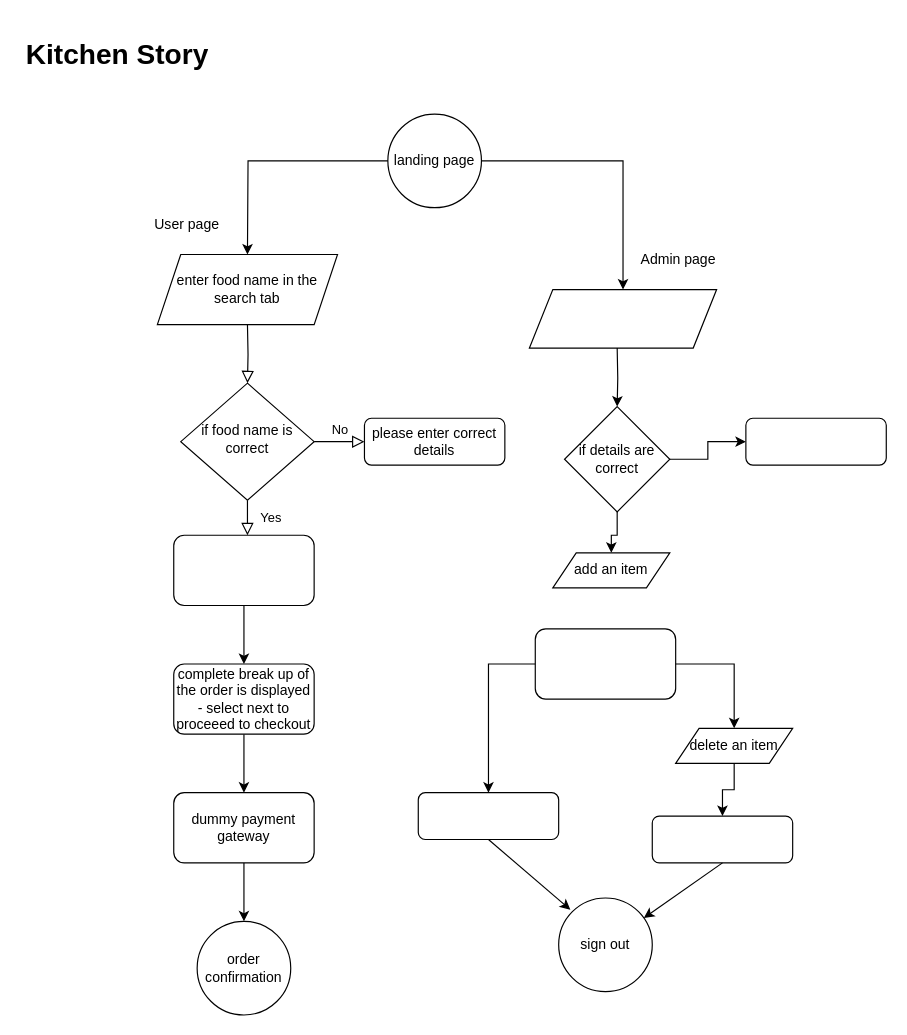
This 907x1035 diagram has some shape labels left out. Here are the shapes that lost their labels. From the top down, the centre of each, then its label:
the point at 622,318: enter username and password
the point at 815,441: invalid credentials
the point at 243,569: display the food items among different shops
the point at 605,663: inventory page
the point at 488,815: item added
the point at 722,839: item deleted
